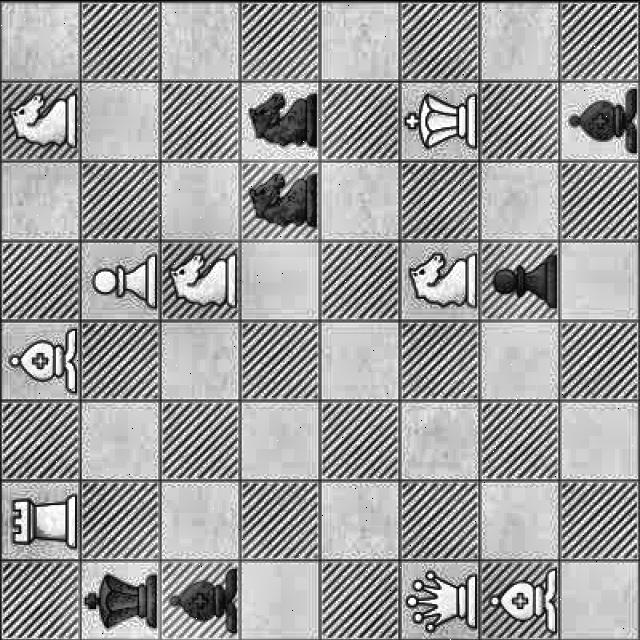Black Knight: (241, 162, 316, 235), (242, 84, 318, 155)
black bishop: (162, 561, 239, 640), (559, 81, 637, 158)
black king: (81, 566, 156, 636)
black pawn: (484, 250, 556, 312)
white bishop: (484, 558, 558, 640), (4, 326, 78, 395)
white king: (404, 83, 480, 161)
white pawn: (84, 247, 160, 314)
white queen: (404, 560, 475, 636)
white rook: (6, 480, 82, 558)
whiteknight: (398, 245, 480, 318), (162, 244, 241, 318), (1, 83, 79, 155)
